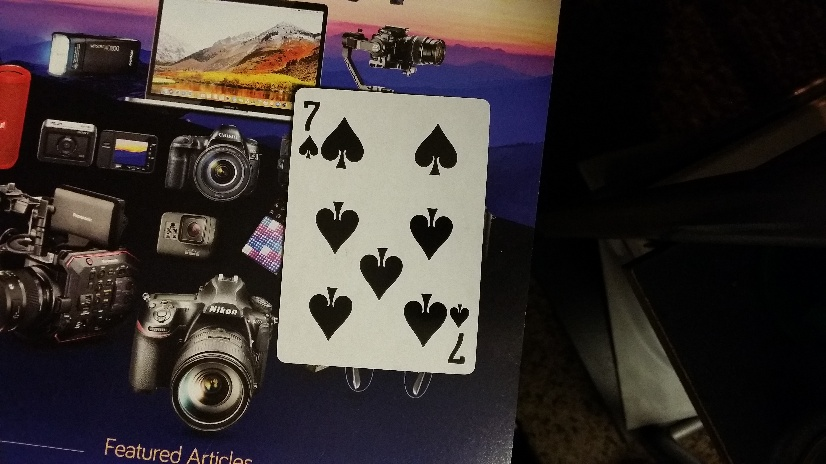S7: (447, 295, 471, 369), (298, 93, 321, 163)
